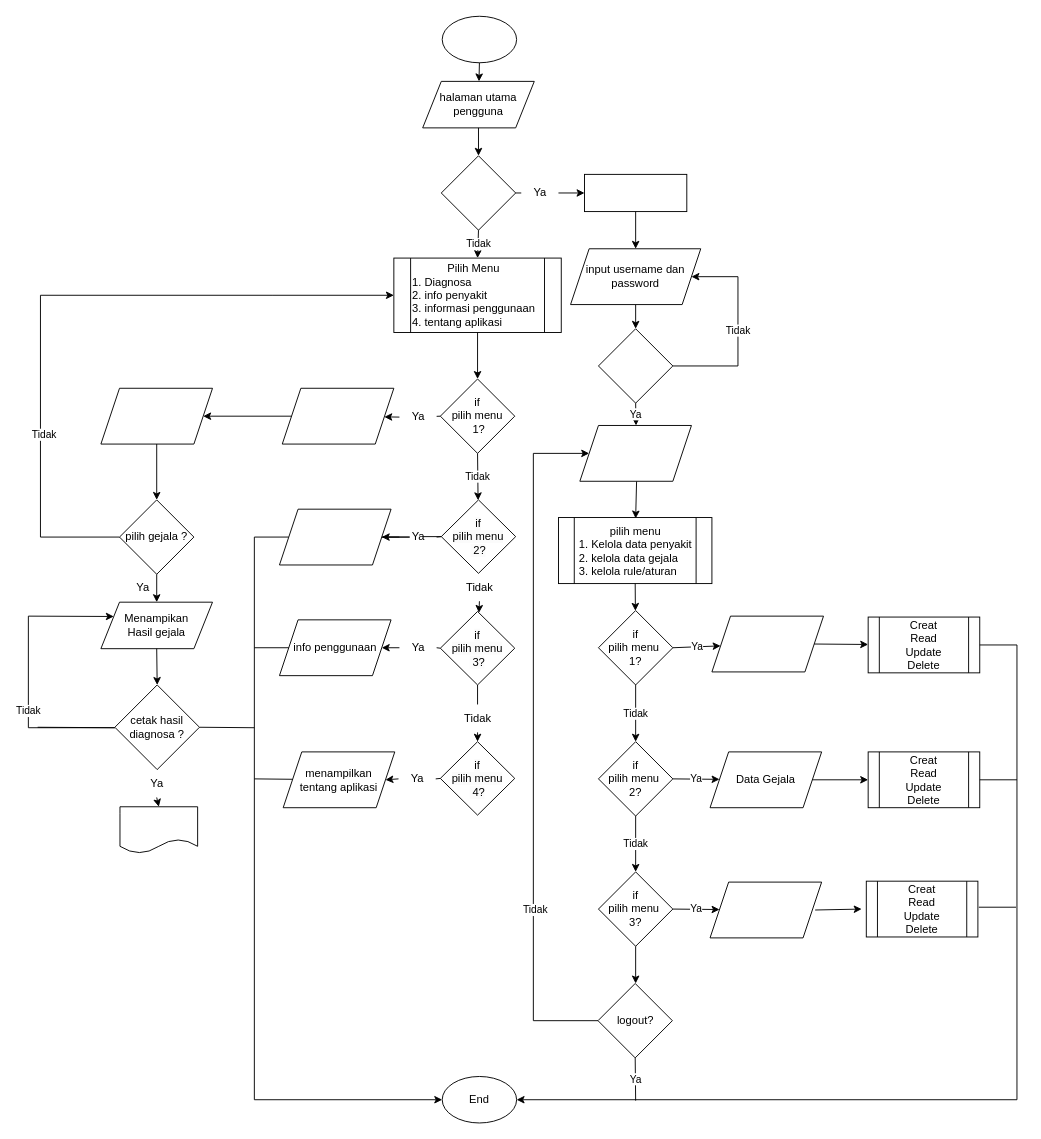
Some shapes in this 1041 by 1139 pixel diagram are drawn without their labels. Each missing label, with the box of its shape:
Dasboard admin: (579, 425, 691, 481)
Data penyakit: (711, 615, 824, 672)
Data rule/ aturan: (709, 881, 822, 938)
Dokumen: (119, 806, 198, 853)
IF Admin?: (440, 155, 516, 230)
input data pengguna: (281, 387, 394, 444)
Login: (584, 173, 687, 212)
menmpilkan info penyakit: (279, 508, 391, 565)
Start: (441, 15, 517, 63)
tampil data gejala: (100, 387, 213, 444)
validasi: (598, 328, 673, 403)
